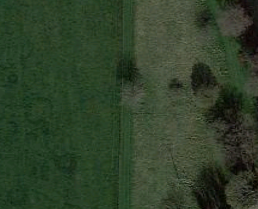tree: (189, 72, 222, 113), (115, 71, 150, 108)
